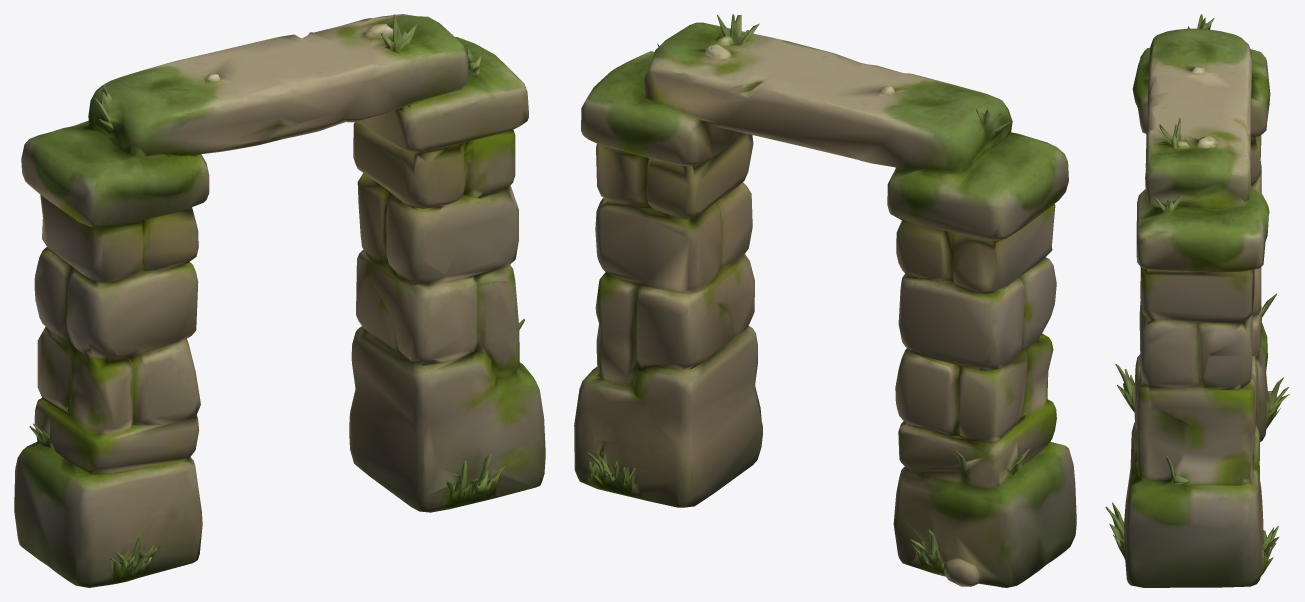
The picture shows the model from 3 angles, left to right: view 1: azimuth 30°, elevation 25°; view 2: azimuth 150°, elevation 25°; view 3: azimuth 270°, elevation 25°; orthographic projection. The views are drawn at different scales.
Parts seen in each view (by area): view 1: world; view 2: world; view 3: world.
Boxes of the visible parts, <box> form: world: <box>14,14,545,587</box>; world: <box>574,14,1076,587</box>; world: <box>1105,14,1289,587</box>.
Size of the model in its own units: 1 by 0.9929 by 0.3957.
Materials: 1 (1 with a texture image).
